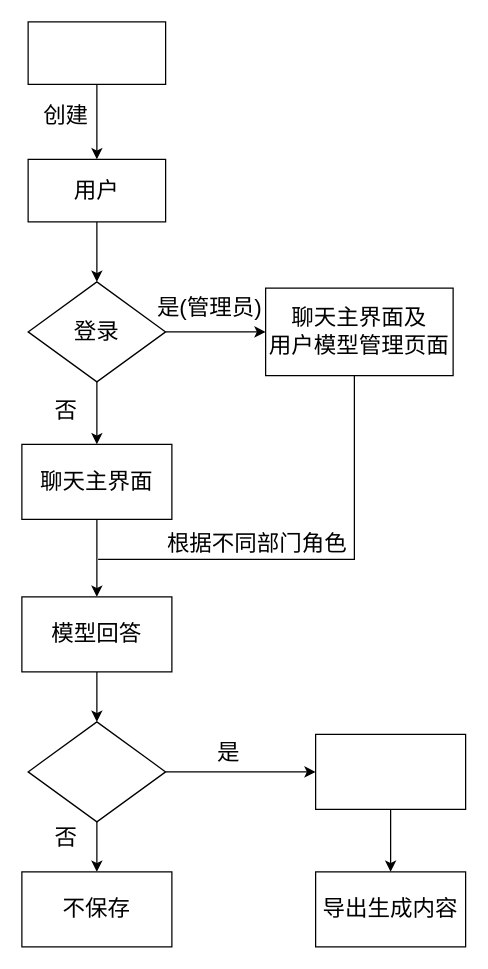
The diagram is 488 pixels wide and 969 high, and some of its shapes have lost their labels. Each missing label, with the centre of its shape:
"保存生成内容" belongs at [390,771].
"是否满意" belongs at [96,771].
"管理员" belongs at [96,52].
